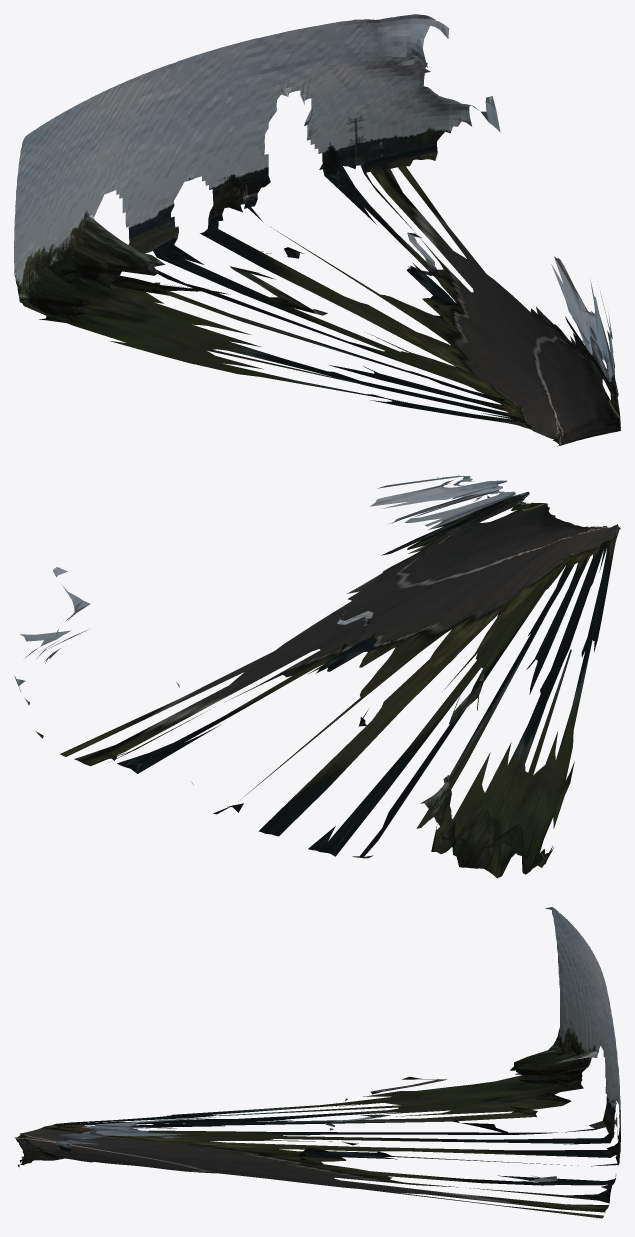
3 renders of one model, top to bottom at view 1: azimuth 30°, elevation 25°; view 2: azimuth 150°, elevation 25°; view 3: azimuth 270°, elevation 25°, orthographic. The views are drawn at different scales.
Parts seen in each view (by area): view 1: defaultobject; view 2: defaultobject; view 3: defaultobject.
Boxes of the visible parts, x1=… form: defaultobject: x1=14, y1=14, x2=620, y2=446; defaultobject: x1=14, y1=475, x2=620, y2=878; defaultobject: x1=14, y1=907, x2=620, y2=1219.
Size of the model in its own units: 36.16 by 14.08 by 44.68.
Materials: 1 (1 with a texture image).
